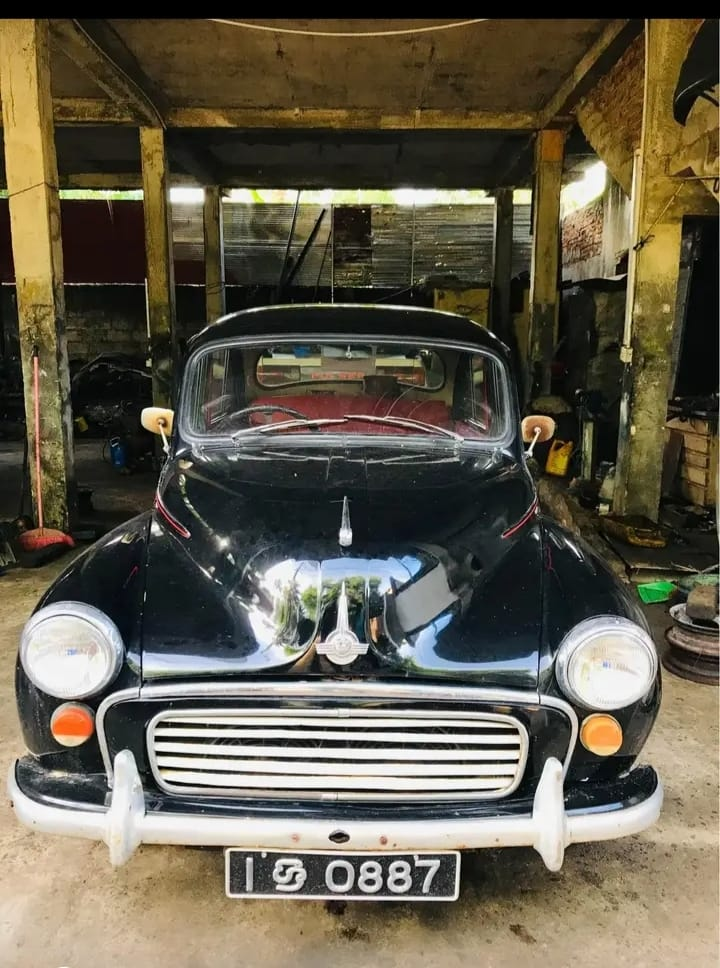number_plate: (223, 846, 457, 901)
